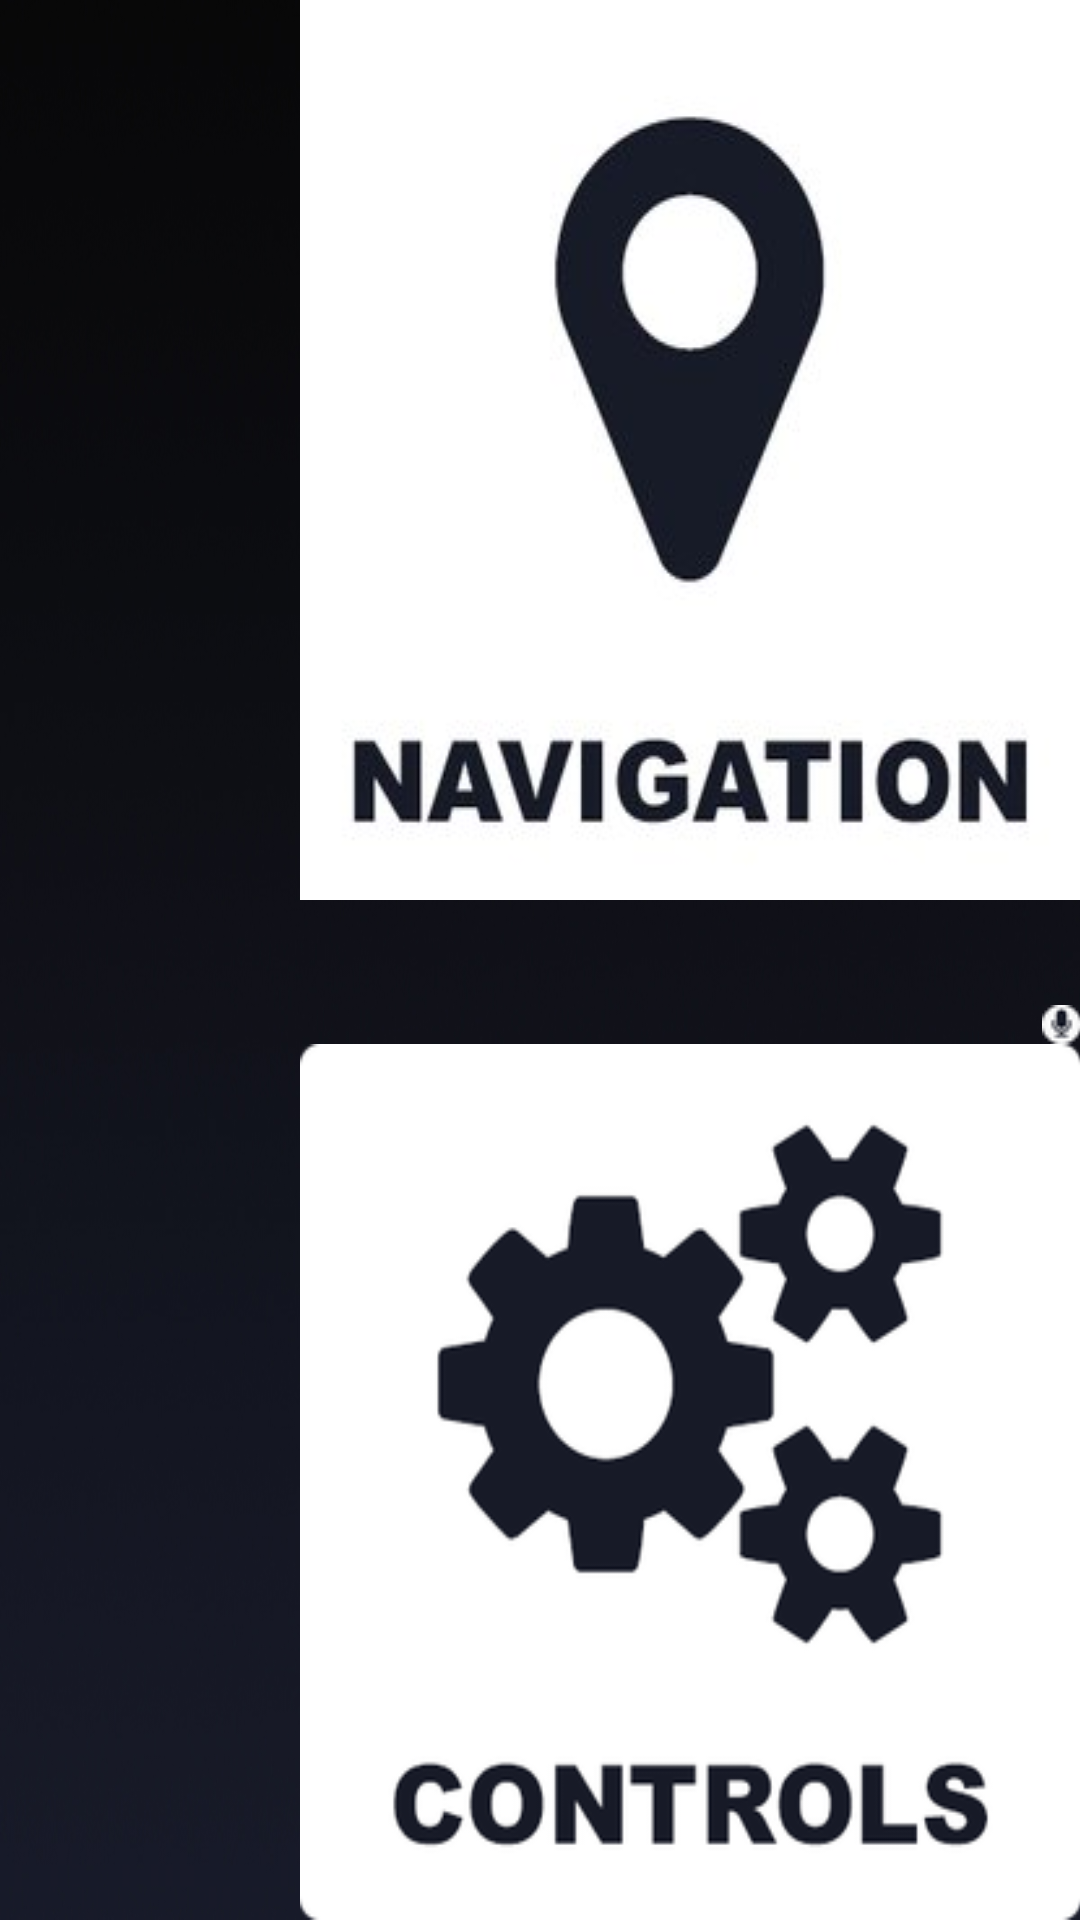

Icon click points for this 1080w x 1920h phone screenshot, format [x,y]:
mic: [1061,1024]
